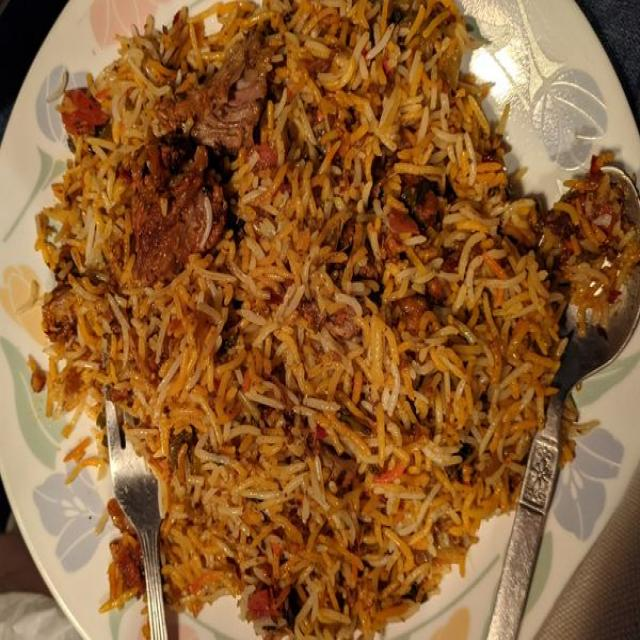Biryani: (60, 12, 542, 640)
